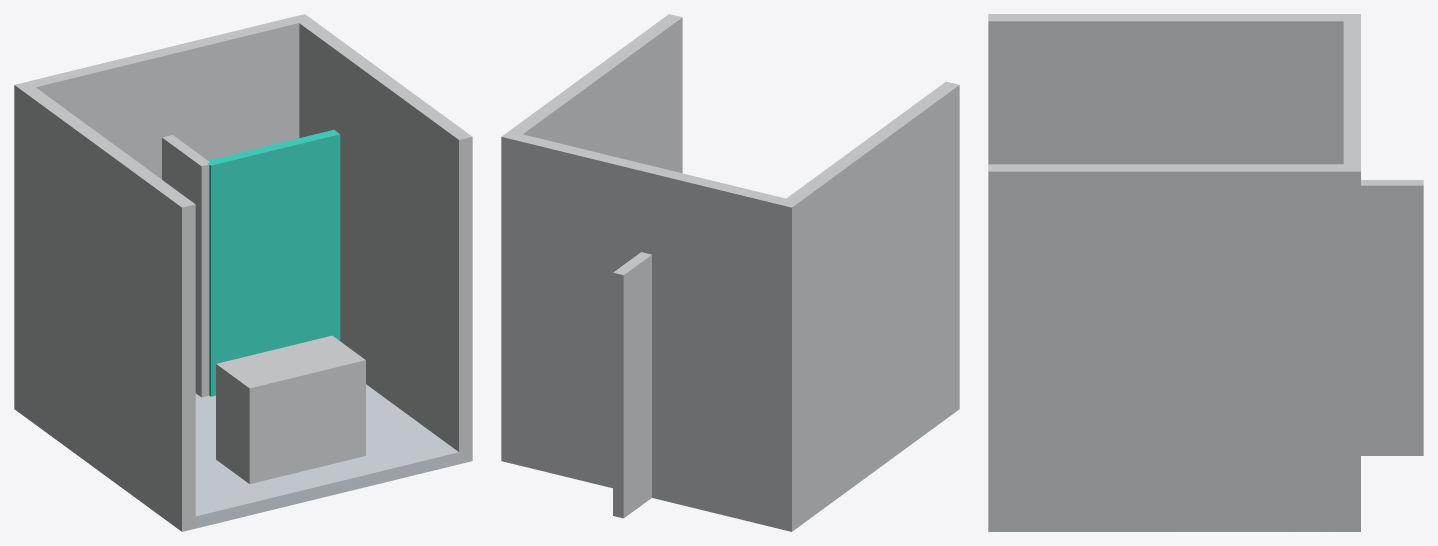
3 views of the same model, side by side, from view 1: azimuth 30°, elevation 25°; view 2: azimuth 150°, elevation 25°; view 3: azimuth 270°, elevation 25° (orthographic). The views are drawn at different scales.
Visible parts, largest first — view 1: Exhibition Booth Concept; view 2: Exhibition Booth Concept; view 3: Exhibition Booth Concept.
Part boxes in pixels (x1,y1,x2,y2): Exhibition Booth Concept: (14,14,472,531); Exhibition Booth Concept: (501,14,959,531); Exhibition Booth Concept: (988,14,1423,531).
Size of the model in its own units: 3 by 3.2 by 3.51.
